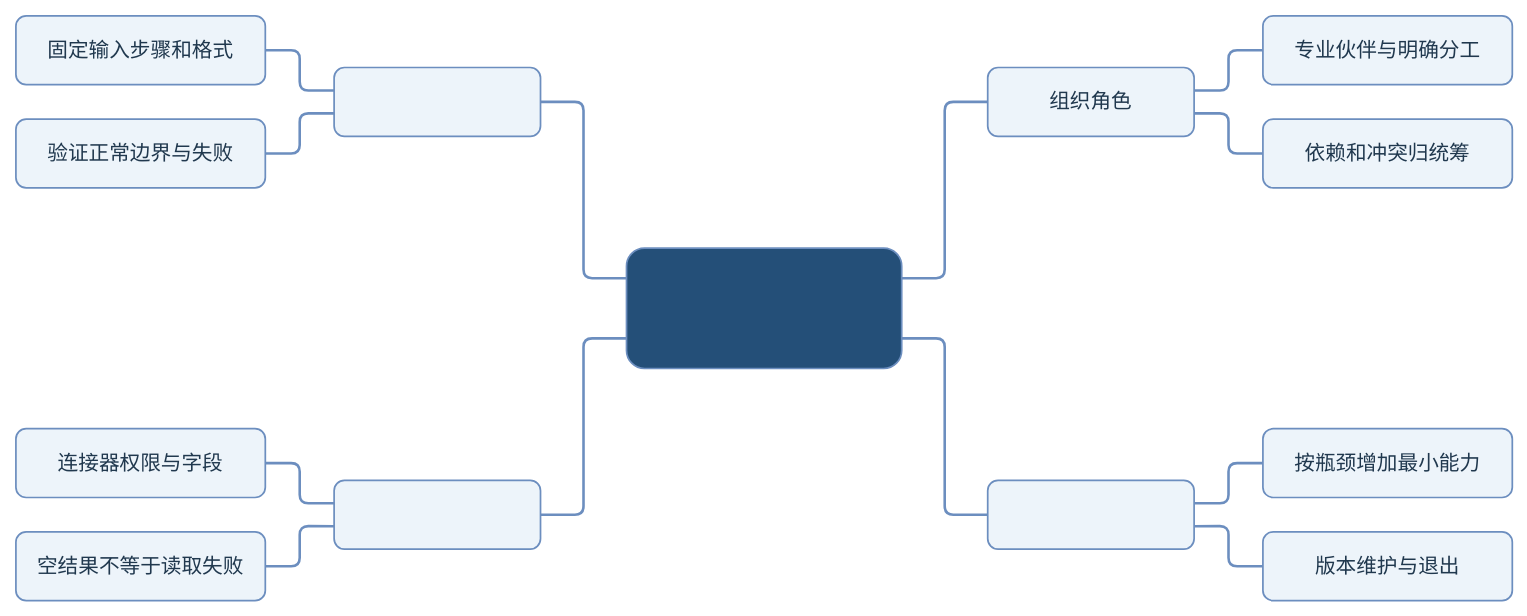
Some shapes in this 1527 by 616 pixel diagram are drawn without their labels. Each missing label, with the centre of its shape:
"接入系统" belongs at point (437, 514).
"沉淀技能" belongs at point (437, 101).
"第12章 生态扩展" belongs at point (763, 308).
"管理扩展" belongs at point (1090, 514).
